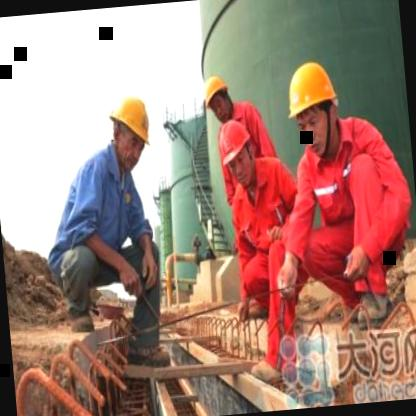helmet: (281, 58, 344, 157), (101, 90, 156, 173), (214, 118, 262, 196), (197, 66, 238, 134)
